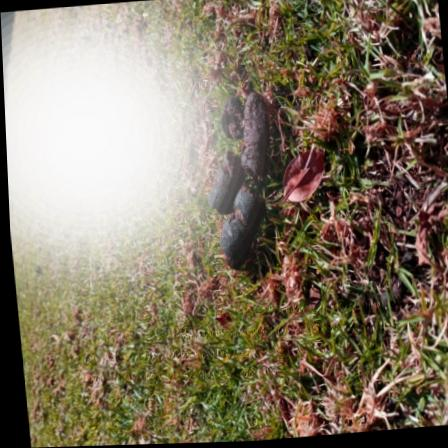dog-poop: (189, 87, 287, 275)
